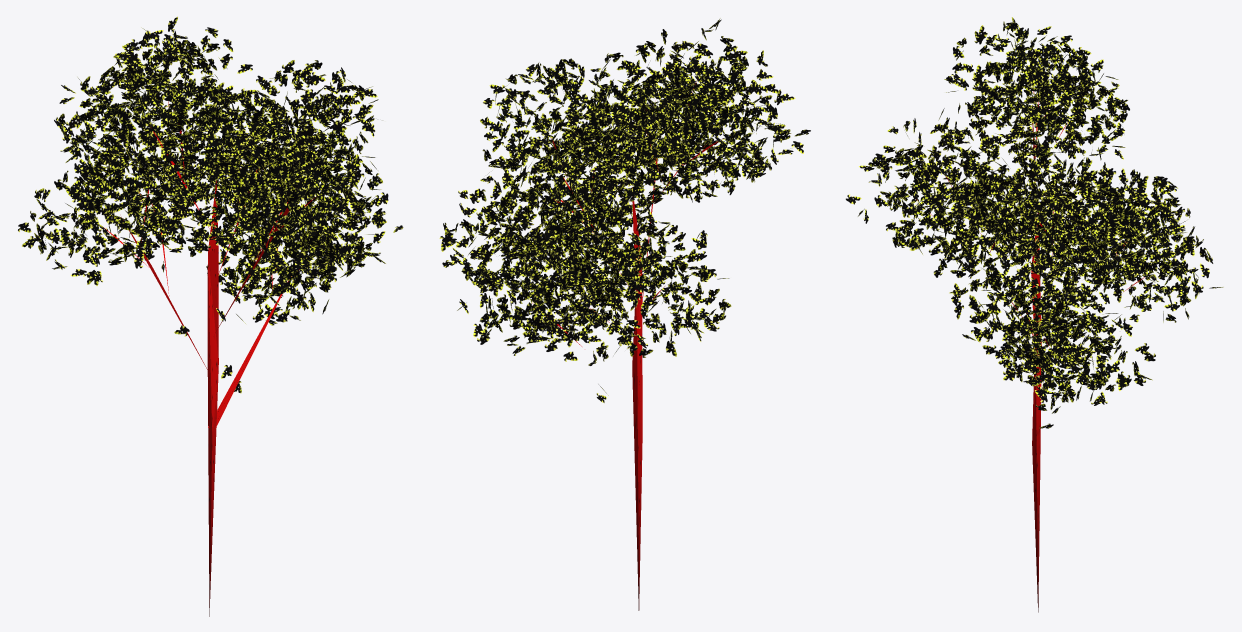
File: birch_pale_v01_LOD1.glb
3 views of the same model, side by side, from view 1: azimuth 30°, elevation 25°; view 2: azimuth 150°, elevation 25°; view 3: azimuth 270°, elevation 25° (orthographic). The views are drawn at different scales.
Parts seen in each view (by area): view 1: birch_pale_v01_LOD1; view 2: birch_pale_v01_LOD1; view 3: birch_pale_v01_LOD1.
Boxes of the visible parts, x1,y1,x2,y2 form: birch_pale_v01_LOD1: (18,16,403,616); birch_pale_v01_LOD1: (439,18,810,610); birch_pale_v01_LOD1: (845,17,1223,612).
Size of the model in its own units: 9.12 by 15.28 by 9.21.
2 materials, 2 textured.
